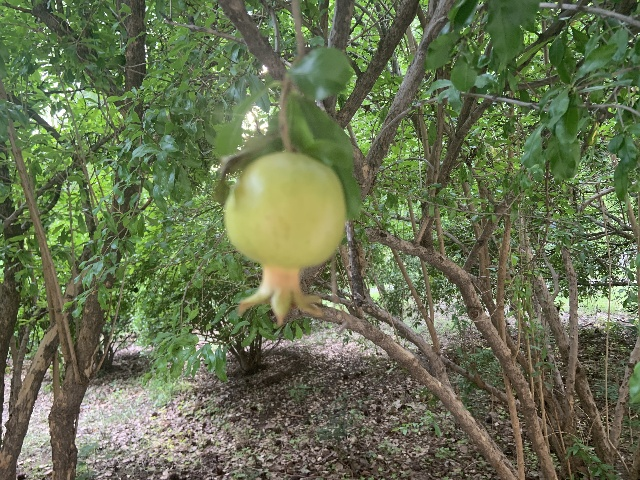mid-growth: (222, 151, 347, 327)
